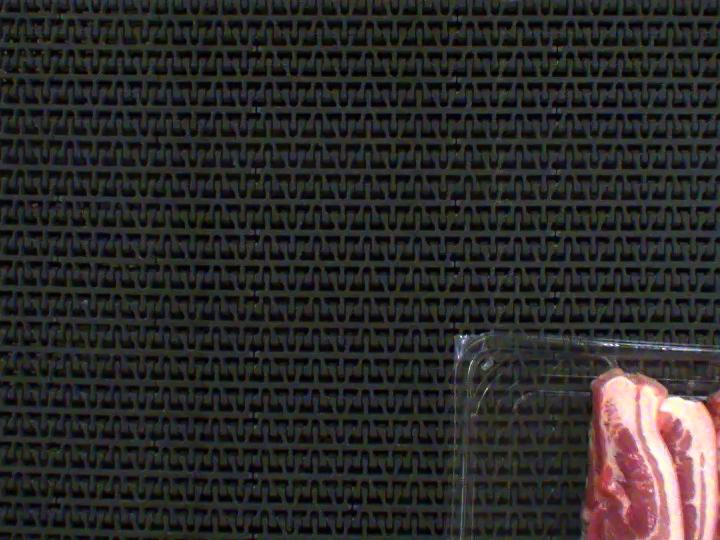packaging-error: (601, 344, 627, 373)
